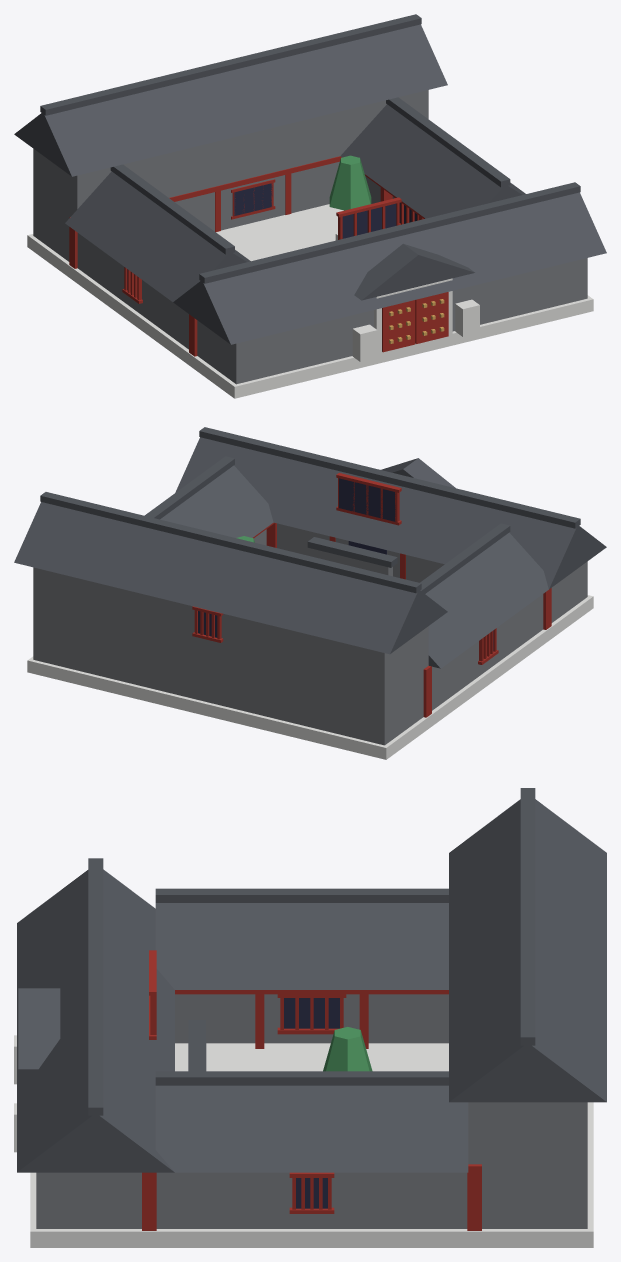
File: house-2x2-2f-siheyuan-a.glb
3 views of the same model, one above another, from view 1: azimuth 30°, elevation 25°; view 2: azimuth 150°, elevation 25°; view 3: azimuth 270°, elevation 25° (orthographic). The views are drawn at different scales.
Parts seen in each view (by area): view 1: house-2x2-2f-siheyuan-a; view 2: house-2x2-2f-siheyuan-a; view 3: house-2x2-2f-siheyuan-a.
Part boxes in pixels (x1,y1,x2,y2): house-2x2-2f-siheyuan-a: [14, 14, 606, 398]; house-2x2-2f-siheyuan-a: [14, 427, 606, 759]; house-2x2-2f-siheyuan-a: [14, 788, 606, 1247].
Bounding box in the file's own units: 1.98 × 0.8 × 1.99.
Materials: 1 (1 with a texture image).
